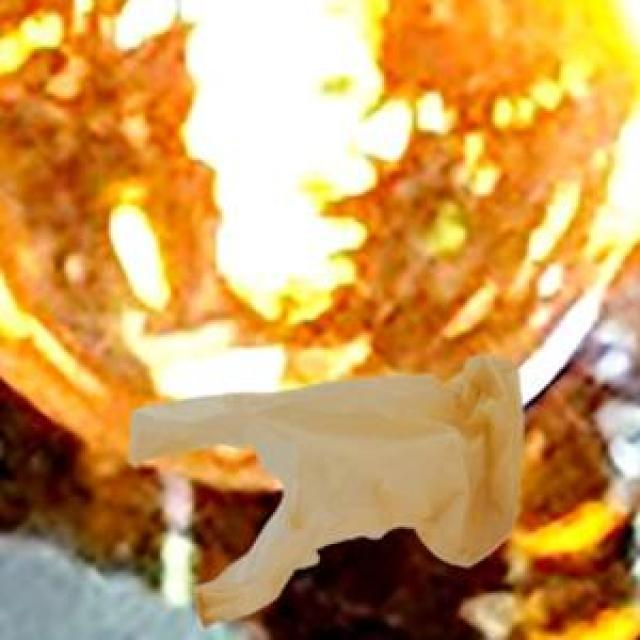waste: (131, 358, 522, 622)
